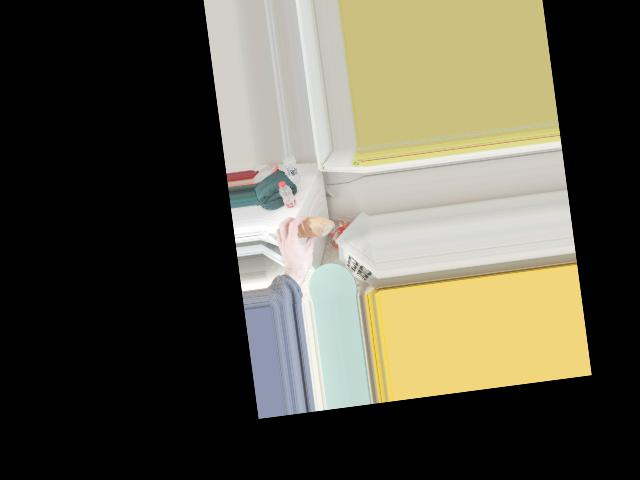sweet_potato: (293, 214, 327, 239)
